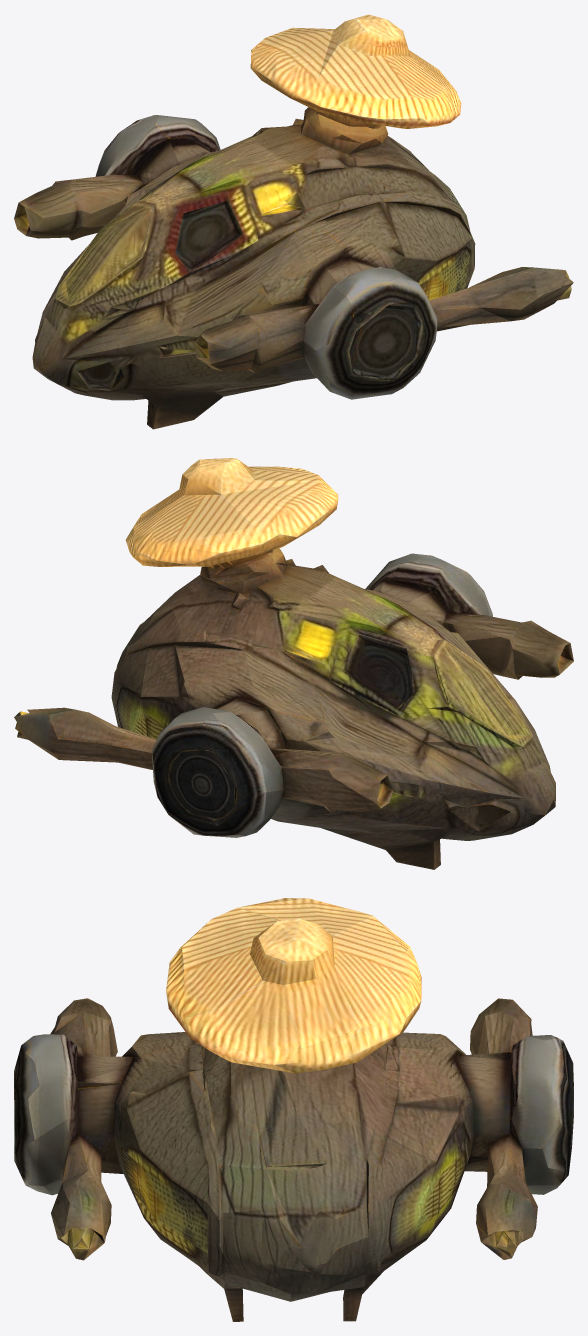
File: nation-v-scout.glb
The picture shows the model from 3 angles, top to bottom: view 1: azimuth 30°, elevation 25°; view 2: azimuth 150°, elevation 25°; view 3: azimuth 270°, elevation 25°; orthographic projection. The views are drawn at different scales.
Bounding box in the file's own units: 1.9 × 1.35 × 1.78.
1 material, 1 textured.
